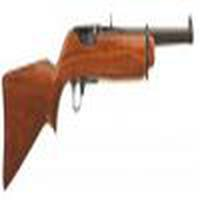gun: (4, 22, 192, 164)
